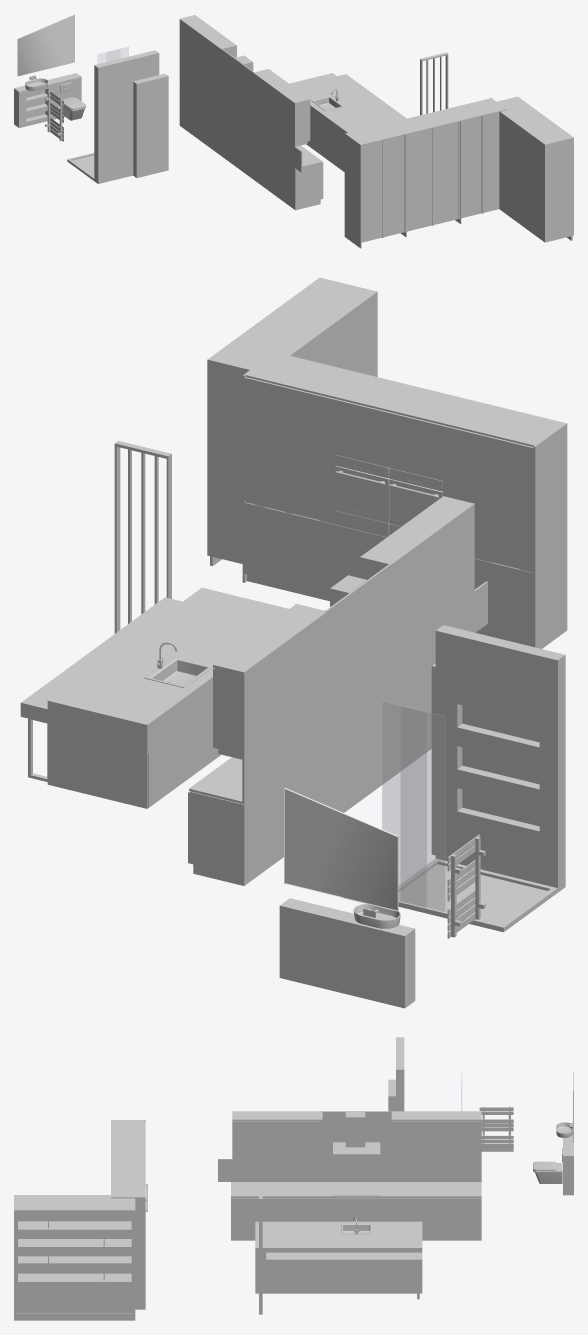
Rendered from EB03__Storey__GroundFloor__ProposedFixtures__MeshModel__.glb.
The picture shows the model from 3 angles, top to bottom: view 1: azimuth 30°, elevation 25°; view 2: azimuth 150°, elevation 25°; view 3: azimuth 270°, elevation 25°; orthographic projection. The views are drawn at different scales.
Parts seen in each view (by area): view 1: 27__ProposedBuilding__Fixtures::Default, 27__ProposedBuilding__Fixtures::MAT140__Mirror__ClearDefault, 01__ModelFlag__BuildingJoinLines::Default, 27__ProposedBuilding__Fixtures::MAT101__Glass__ClearDefault; view 2: 27__ProposedBuilding__Fixtures::Default, 27__ProposedBuilding__Fixtures::MAT101__Glass__ClearDefault, 27__ProposedBuilding__Fixtures::MAT140__Mirror__ClearDefault, 27_1003__KitchenAppliance__StandardOven__WithWarmingDrawer__ (×2); view 3: 27__ProposedBuilding__Fixtures::Default, 27__ProposedBuilding__Fixtures::MAT01509_-_KitchenAppliance_.
Boxes of the visible parts, <box> form: 27__ProposedBuilding__Fixtures::Default: <box>14,15,573,248</box>; 27__ProposedBuilding__Fixtures::MAT140__Mirror__ClearDefault: <box>17,14,74,76</box>; 01__ModelFlag__BuildingJoinLines::Default: <box>133,73,168,177</box>; 27__ProposedBuilding__Fixtures::MAT101__Glass__ClearDefault: <box>98,47,128,63</box>; 27__ProposedBuilding__Fixtures::Default: <box>20,277,567,1008</box>; 27__ProposedBuilding__Fixtures::MAT101__Glass__ClearDefault: <box>382,701,445,911</box>; 27__ProposedBuilding__Fixtures::MAT140__Mirror__ClearDefault: <box>284,788,398,911</box>; 27_1003__KitchenAppliance__StandardOven__WithWarmingDrawer__ (×2): <box>335,455,442,536</box>; 27__ProposedBuilding__Fixtures::Default: <box>14,1037,573,1320</box>; 27__ProposedBuilding__Fixtures::MAT01509_-_KitchenAppliance_: <box>333,1112,380,1156</box>.
Size of the model in its own units: 6.76 by 2.49 by 10.05.
Materials: 3 (1 with a texture image).
